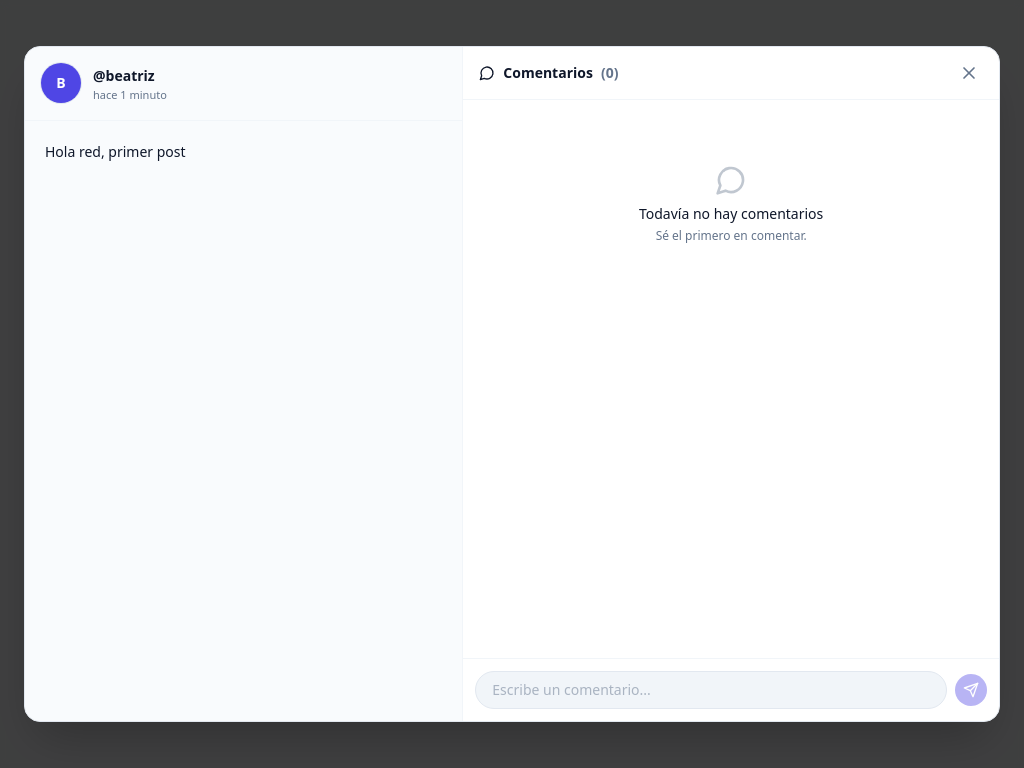
ComentariosModal › publica un comentario nuevo y lo añade al hilo
Expected: the text "Todavía no hay comentarios" is shown, [639,204,823,223]
Step 1. Type "Mi comentario" into the field labelled "Escribe un comentario" → (711, 690), box [475,671,947,709]
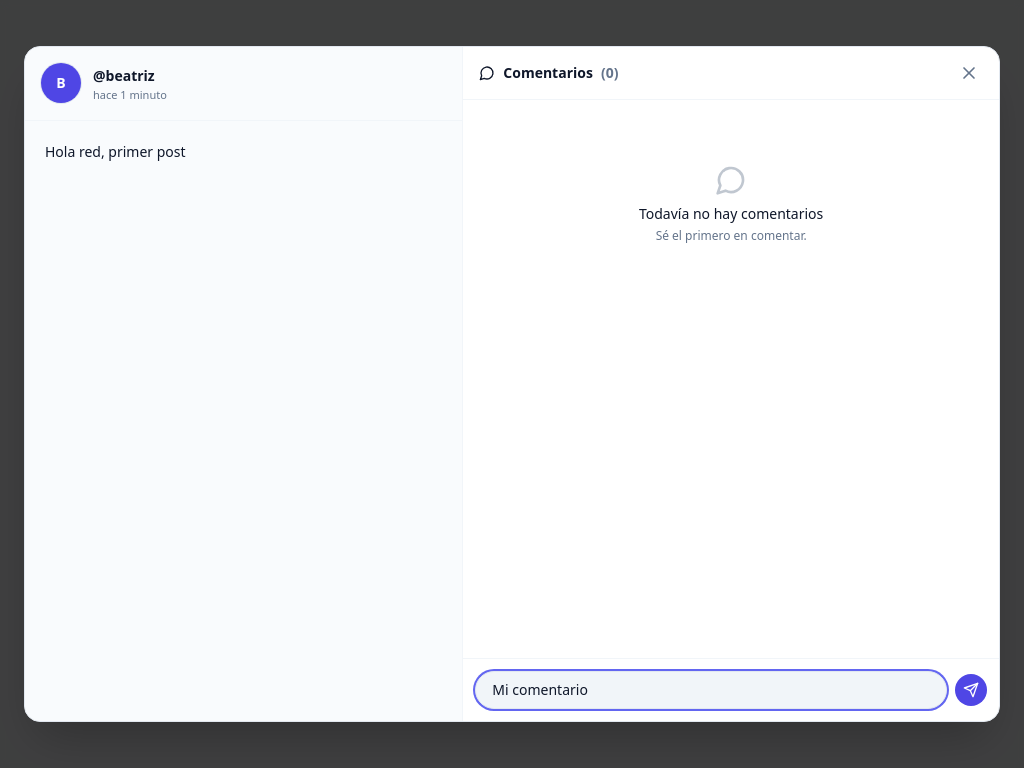
Step 2. Click the button named "Publicar comentario" → (971, 690), box [955,674,987,706]
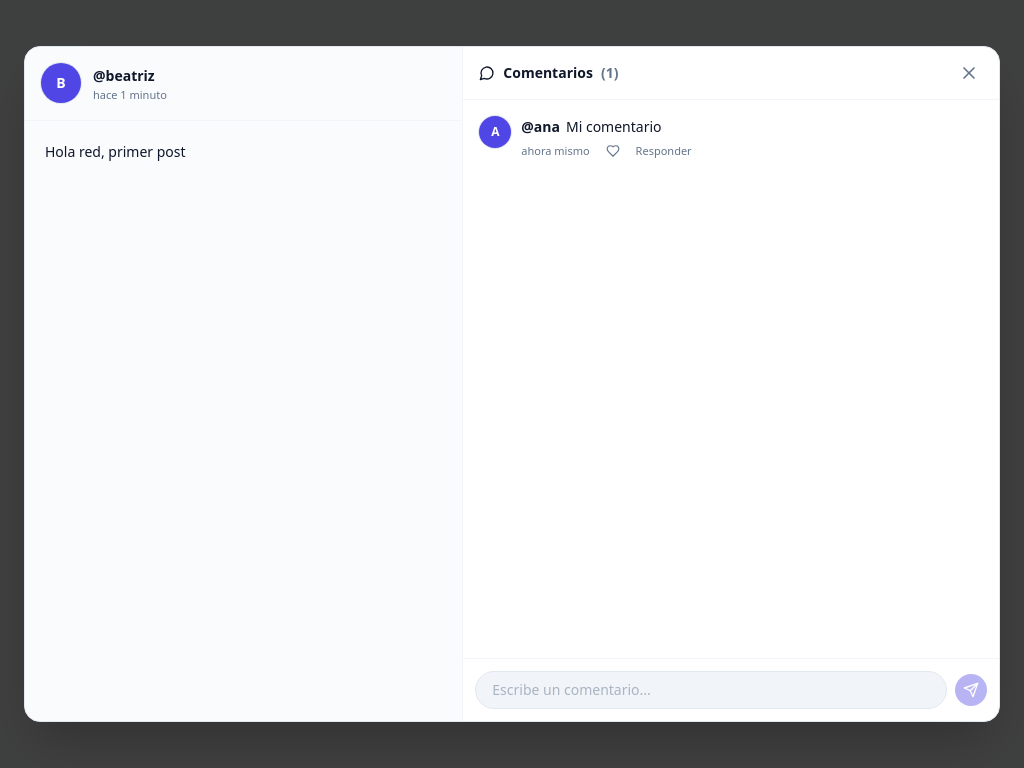
Now the text "Mi comentario" is shown, box [566,117,662,136]
